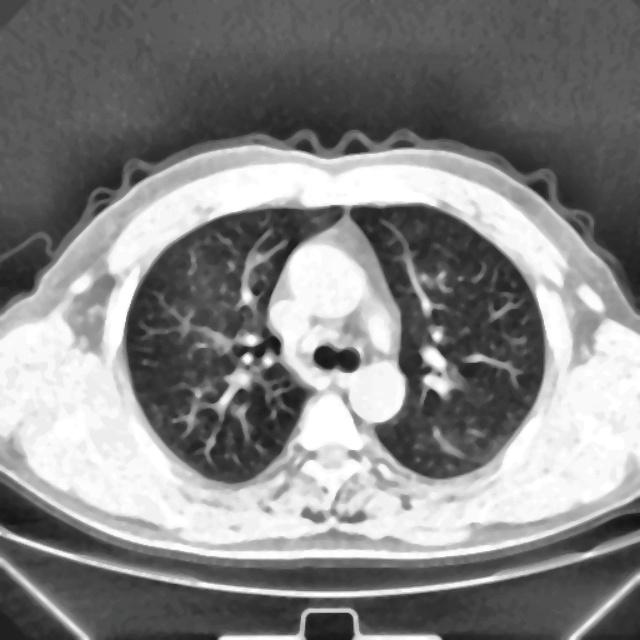covid: (0, 127, 639, 575)
